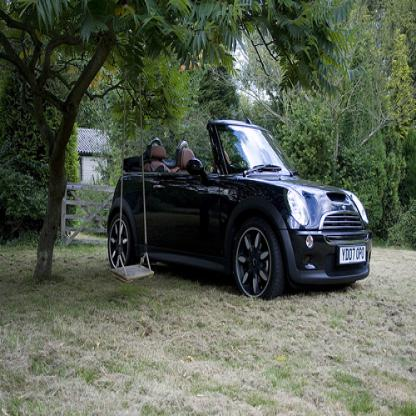car: (108, 118, 372, 301)
